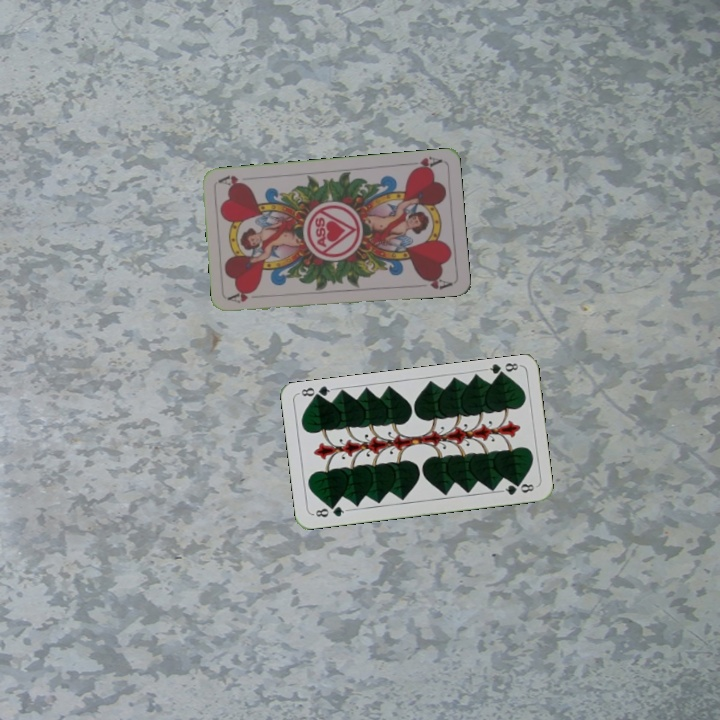G8: (482, 359, 522, 380), (309, 502, 350, 520)
HA: (407, 152, 444, 174), (226, 289, 254, 306)
